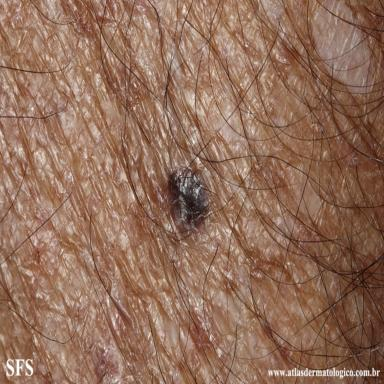Melanoma: (165, 167, 211, 235)
